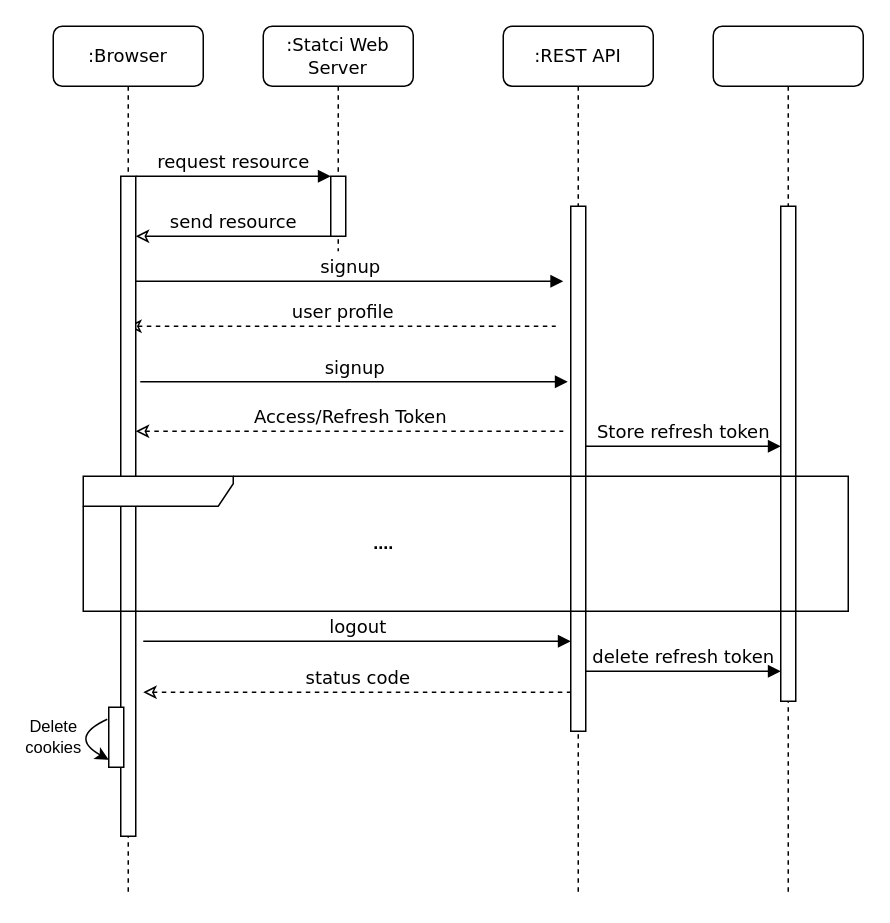
The diagram is 890 pixels wide and 923 high, and some of its shapes have lost their labels. Here are the shapes that lost their labels. From the top down, the box of each, then its label:
(712, 25, 863, 896): :Mongo DB
(82, 475, 848, 611): API Interaction
